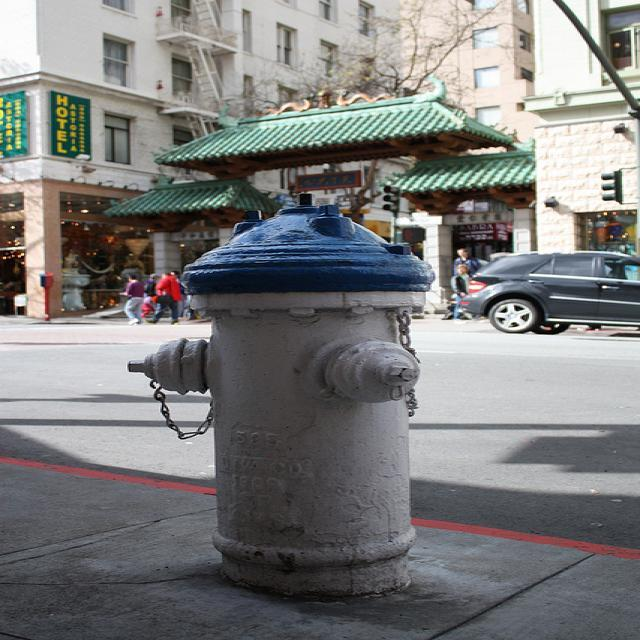fire_hydrant: (122, 193, 434, 604)
